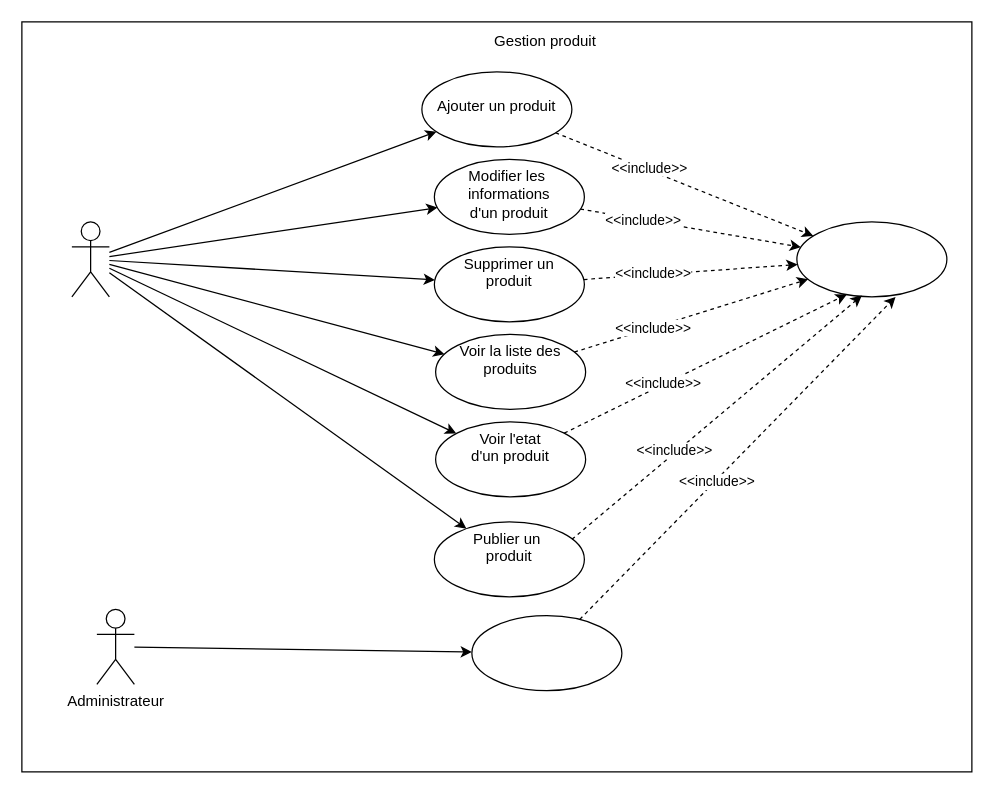
This 994x794 diagram has some shape labels left out. Here are the shapes that lost their labels. From the top down, the box of each, then its label:
(71, 221, 109, 297): Client_vendeur
(796, 221, 947, 297): S'authentifier
(471, 614, 622, 691): Valider la publication d'un produit
